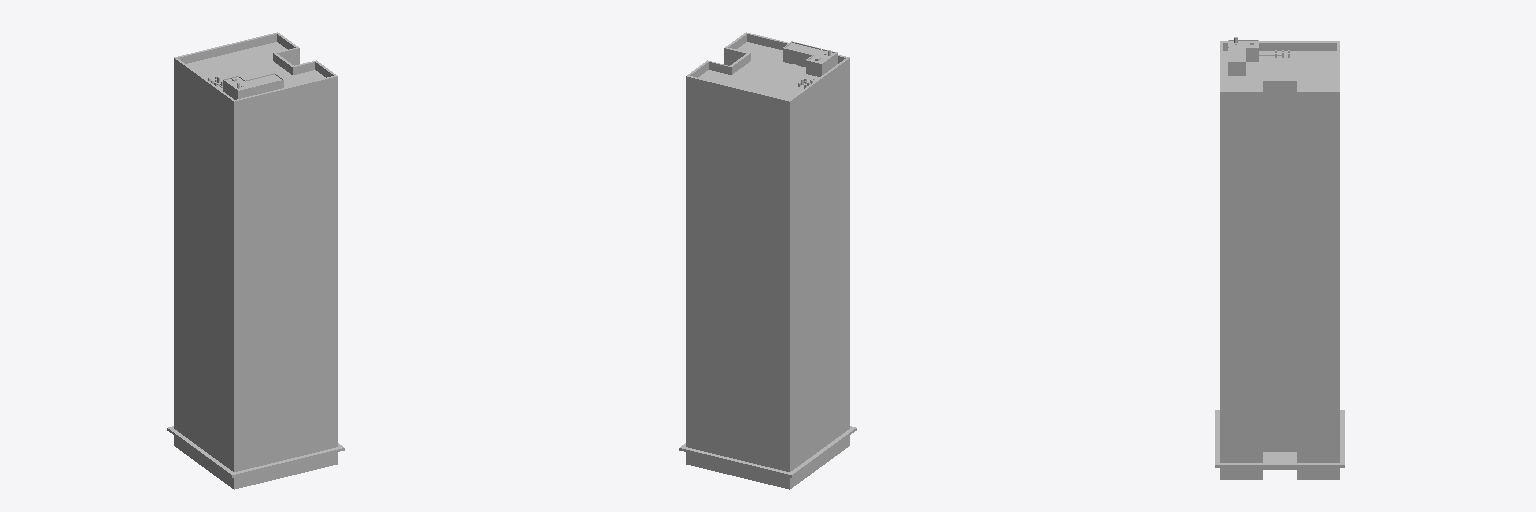
The model's file is budynek2.obj.
3 views of the same model, side by side, from view 1: azimuth 30°, elevation 25°; view 2: azimuth 150°, elevation 25°; view 3: azimuth 270°, elevation 25° (orthographic).
Parts seen in each view (by area): view 1: Orange_Cube.018; view 2: Orange_Cube.018; view 3: Orange_Cube.018.
Boxes of the visible parts, <box> form: Orange_Cube.018: <box>167,32,344,489</box>; Orange_Cube.018: <box>679,32,856,489</box>; Orange_Cube.018: <box>1215,37,1344,479</box>.
Bounding box in the file's own units: 2.16 × 7.3 × 2.16.